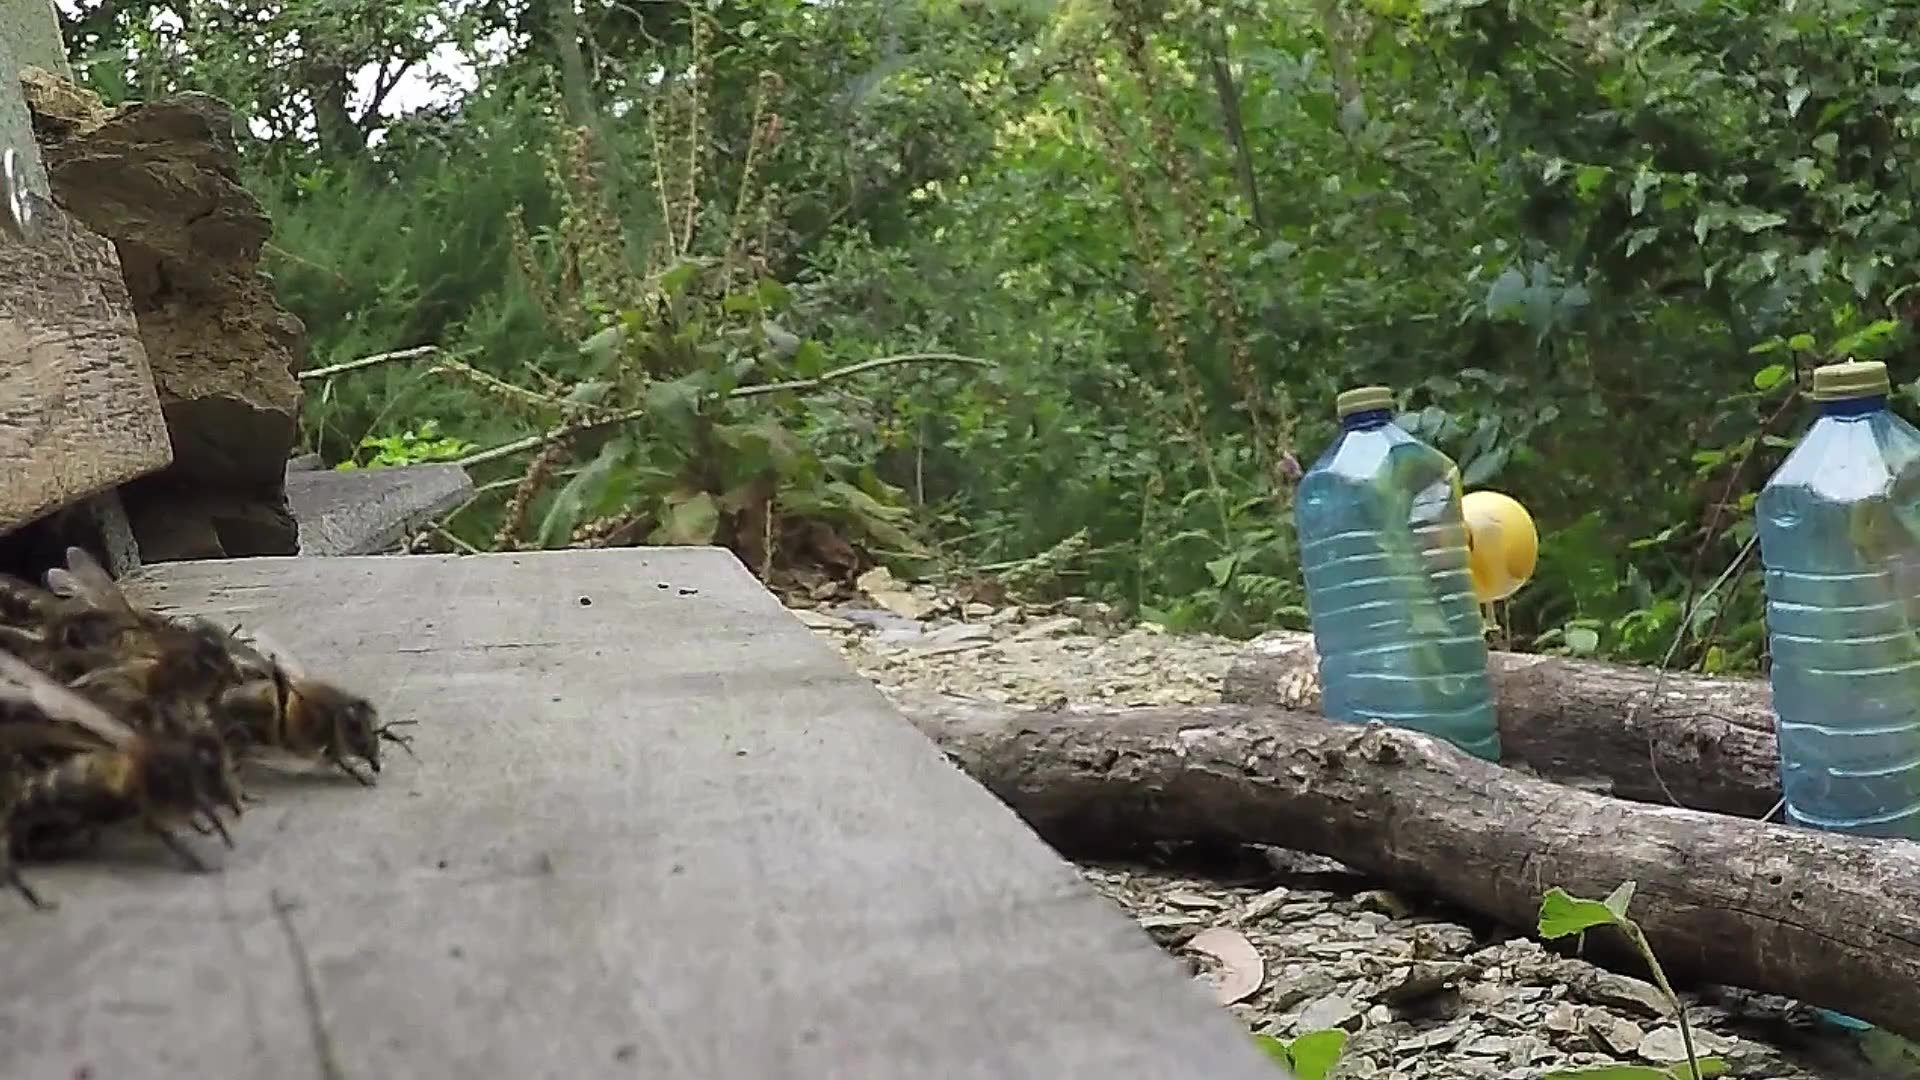bee: (1, 534, 272, 899), (202, 665, 419, 771)
